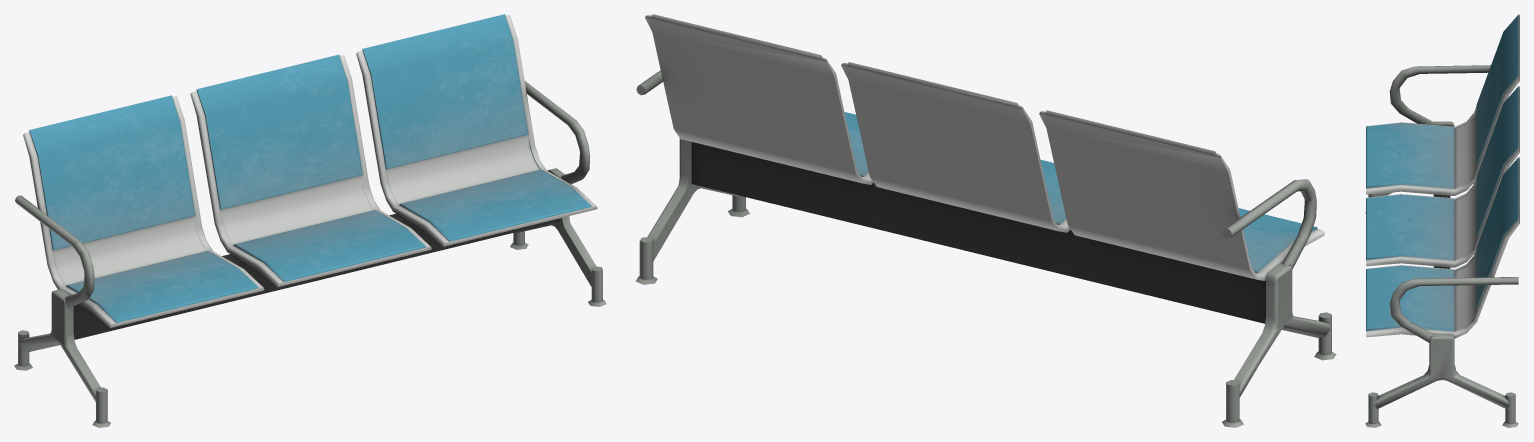
File: hospital_bench.glb
The picture shows the model from 3 angles, left to right: view 1: azimuth 30°, elevation 25°; view 2: azimuth 150°, elevation 25°; view 3: azimuth 270°, elevation 25°; orthographic projection. The views are drawn at different scales.
Visible parts, largest first — view 1: hospital_bench; view 2: hospital_bench; view 3: hospital_bench.
Part boxes in pixels (left/top/right/bottom): hospital_bench: left=14, top=14, right=606, bottom=427; hospital_bench: left=635, top=14, right=1336, bottom=427; hospital_bench: left=1365, top=14, right=1519, bottom=427.
Size of the model in its own units: 2.03 by 0.8743 by 0.6052.
Materials: 1 (1 with a texture image).
